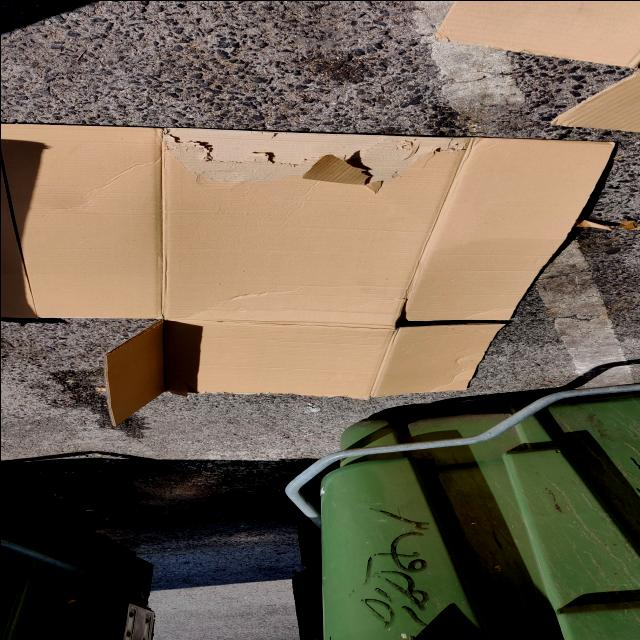Corrugated carton: (0, 123, 615, 426), (431, 0, 640, 132)
